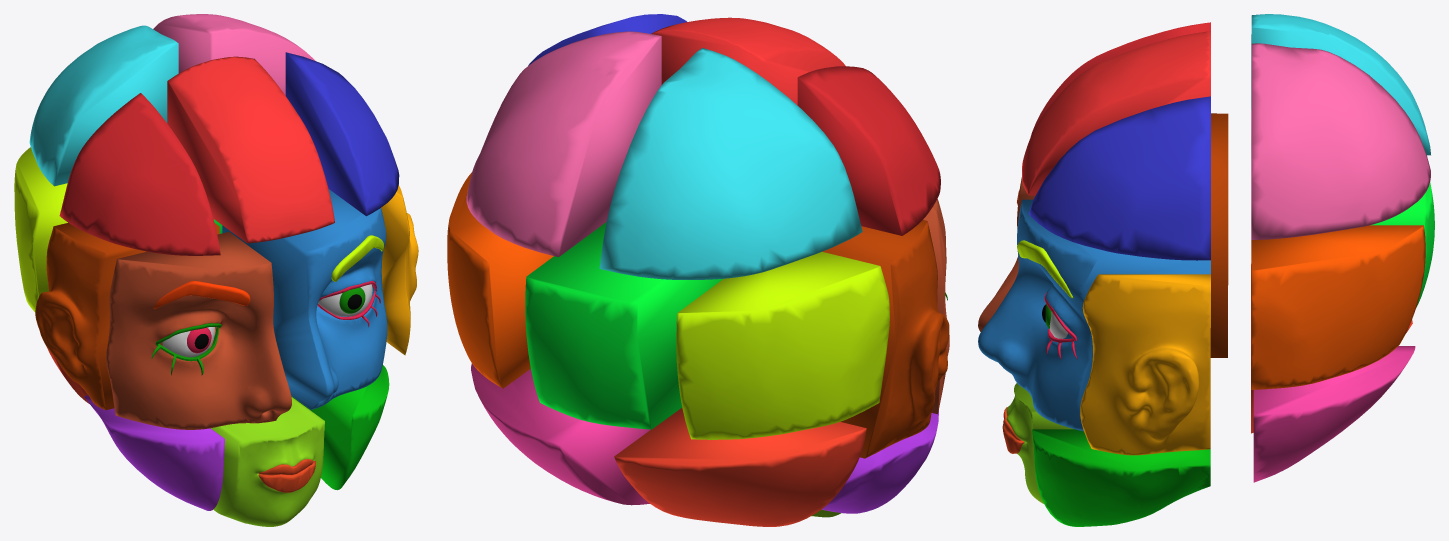
Rendered from face_exportunity_PIVOTPOINTCENTER.fbx.
3 views of the same model, side by side, from view 1: azimuth 30°, elevation 25°; view 2: azimuth 150°, elevation 25°; view 3: azimuth 270°, elevation 25° (orthographic). The views are drawn at different scales.
Visible parts, largest first — view 1: front4b, front2, front5, front1, back1, front4a, front3, front8, front7, back2, back3, front9 (+1 smaller); view 2: back1, back3, back2, back4, back6, front1, front4a, back5, back7, front2, front7, front4b (+1 smaller); view 3: back2, back5, front6, front3, front5, front2, front9, back7, back1, front4a, front8, front1 (+2 smaller).
Boxes of the visible parts, box(x1,y1,x2,y2) form: front4b: box(106, 232, 291, 429); front2: box(167, 56, 334, 243); front5: box(222, 189, 387, 409); front1: box(59, 93, 220, 255); back1: box(29, 25, 178, 186); front4a: box(35, 222, 219, 410); front3: box(285, 52, 399, 216); front8: box(211, 397, 324, 526); front7: box(84, 395, 224, 510); back2: box(153, 14, 315, 95); back3: box(14, 147, 67, 312); front9: box(291, 365, 389, 490); back1: box(599, 48, 862, 279); back3: box(676, 252, 889, 439); back2: box(466, 31, 661, 256); back4: box(525, 222, 723, 429); back6: box(614, 408, 866, 526); front1: box(797, 66, 940, 235); front4a: box(822, 220, 949, 458); back5: box(447, 172, 553, 388); back7: box(471, 363, 650, 505); front2: box(651, 17, 845, 105); front7: box(822, 410, 938, 513); front4b: box(923, 199, 949, 414); back2: box(1251, 43, 1430, 239); back5: box(1251, 225, 1425, 389); front6: box(1080, 274, 1210, 455); front3: box(1028, 96, 1210, 260); front5: box(978, 199, 1210, 431); front2: box(1022, 31, 1210, 195); front9: box(1032, 429, 1210, 526); back7: box(1253, 346, 1415, 482); back1: box(1251, 14, 1430, 155); front4a: box(1210, 113, 1228, 357); front8: box(1002, 383, 1073, 503); front1: box(1030, 22, 1210, 136).
Bounding box in the file's own units: 252 × 279 × 244.
